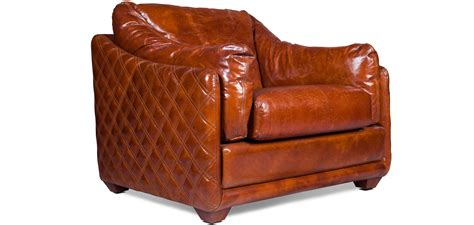cuero: (92, 1, 393, 214)
